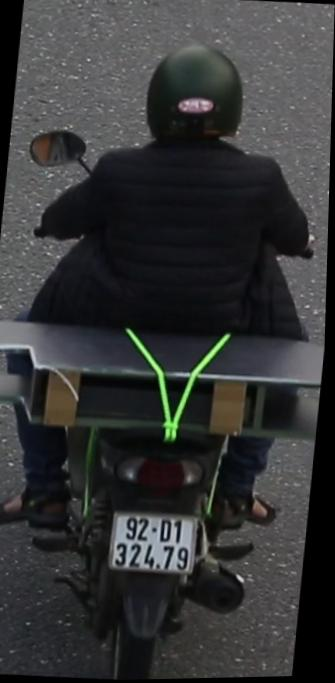LP: (106, 497, 209, 579)
helmet: (135, 37, 262, 166)
